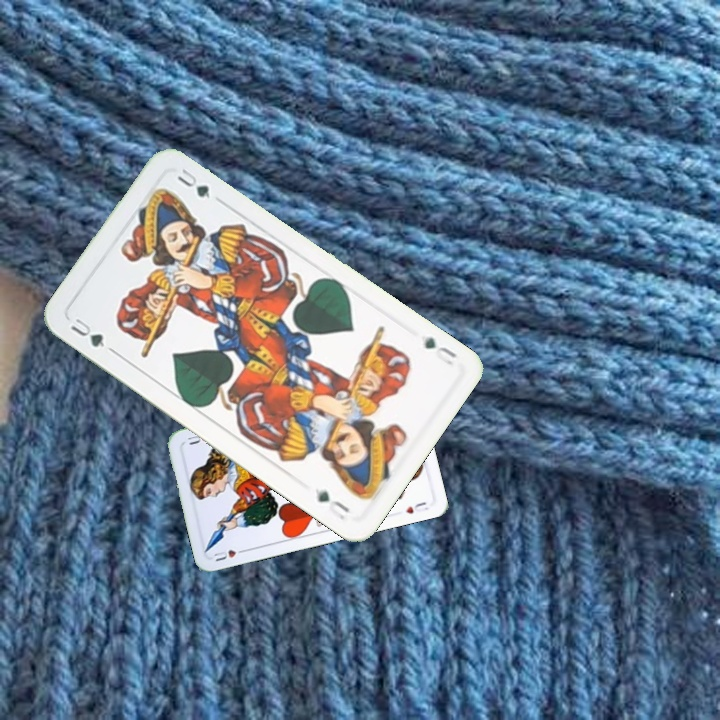GU: (66, 314, 107, 350), (420, 332, 460, 368)
HU: (210, 545, 249, 564)
